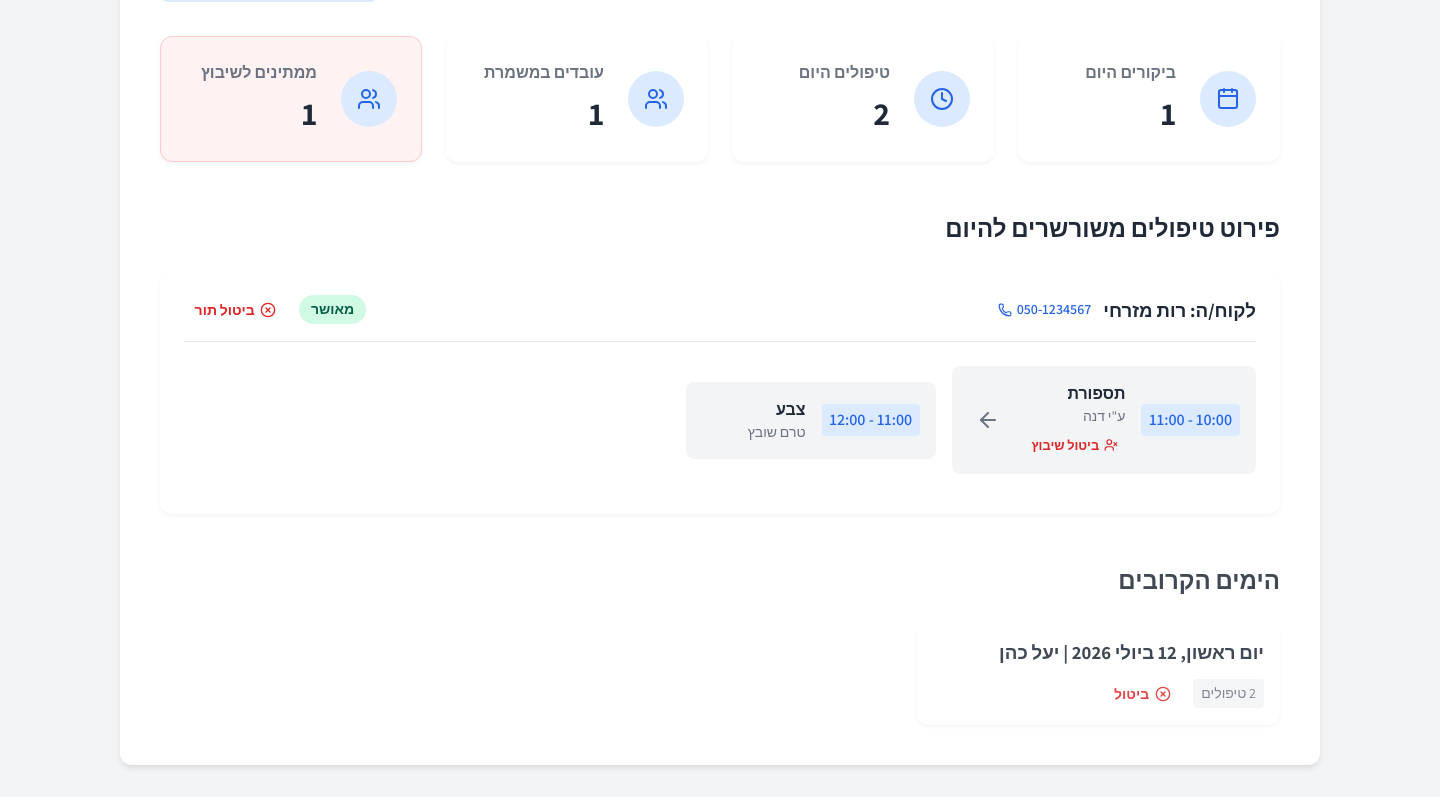
Test: ManagerDashboardPage › cancelling an appointment › cancels a future appointment from the upcoming-days section
This screenshot has width=1440, height=797.
(page scrolled)
Check: the heading "יעל כהן" is shown, box [999,638,1264,666]
Click the button with aria-label "ביטול התור של יעל" at (1142, 694), box [1104,678,1181,709]
(page scrolled)
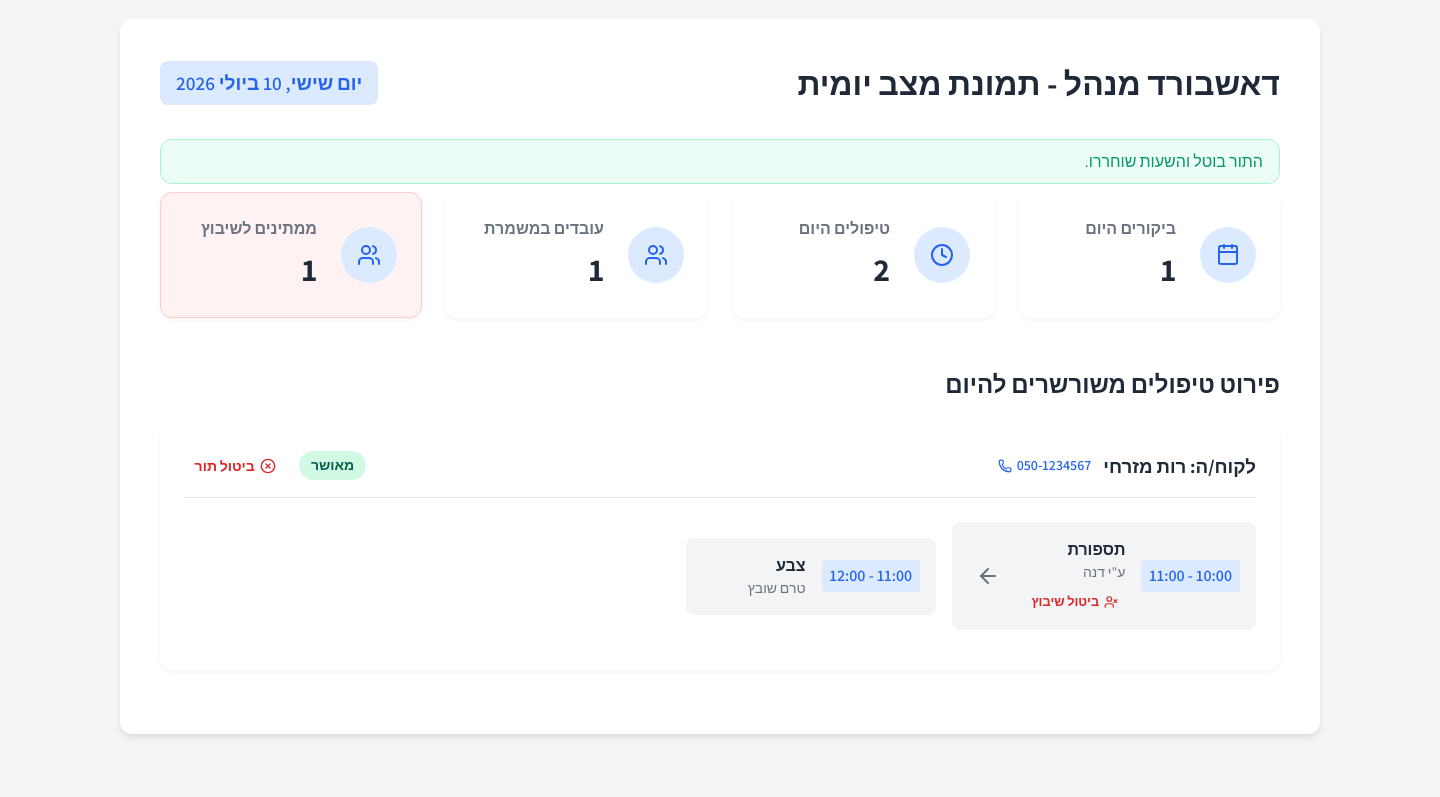
Check: the text "התור בוטל והשעות שוחררו." is shown, box [160,139,1280,184]
Check: the heading "יעל כהן" is gone
